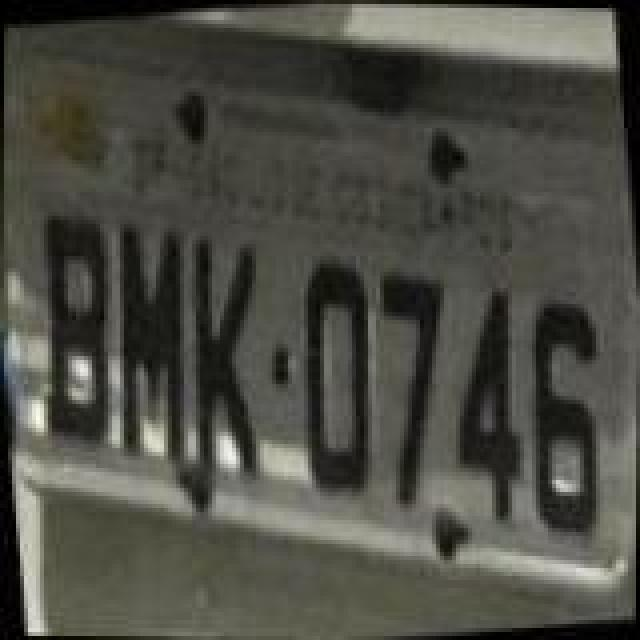4: (438, 278, 534, 522)
6: (512, 292, 620, 540)
7: (368, 260, 476, 508)
B: (18, 204, 126, 444)
K: (174, 230, 282, 482)
M: (96, 212, 208, 464)
O: (286, 256, 386, 500)
